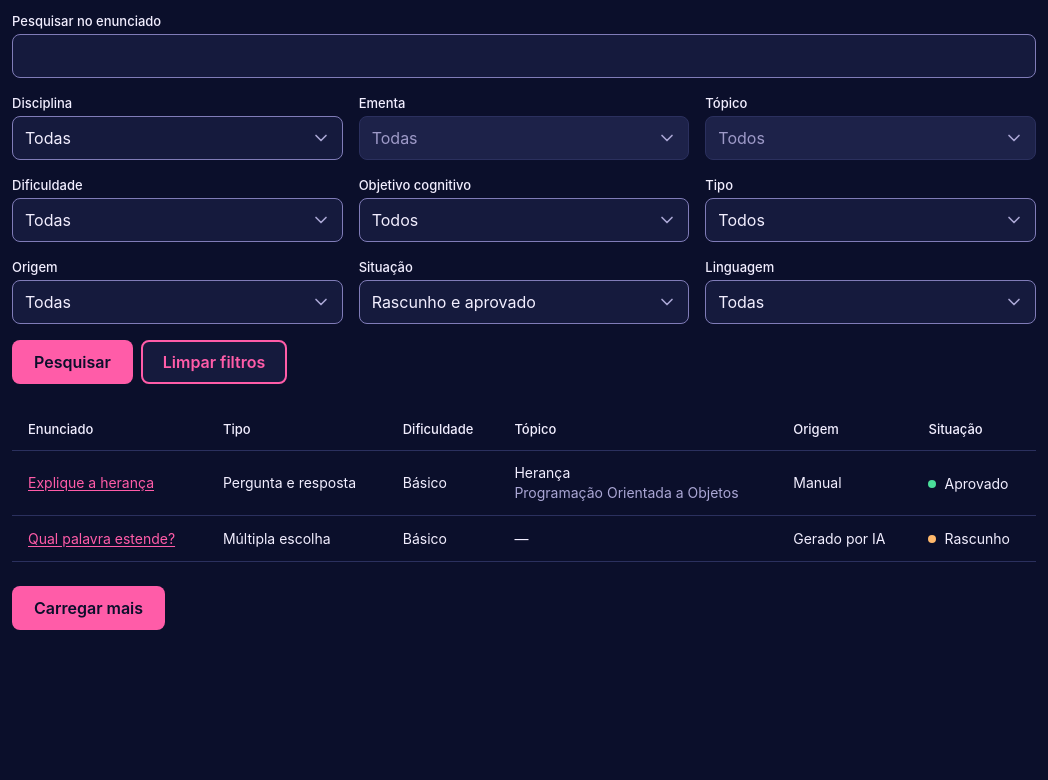
Test: 010/US5 ExerciseBankList — consultar o banco › 010/US5-1 "Carregar mais" pede a próxima página pelo cursor e acrescenta à lista
The width and height of the screenshot is (1048, 780).
Click the button "Carregar mais". click: (89, 608)
box: [12, 586, 165, 630]
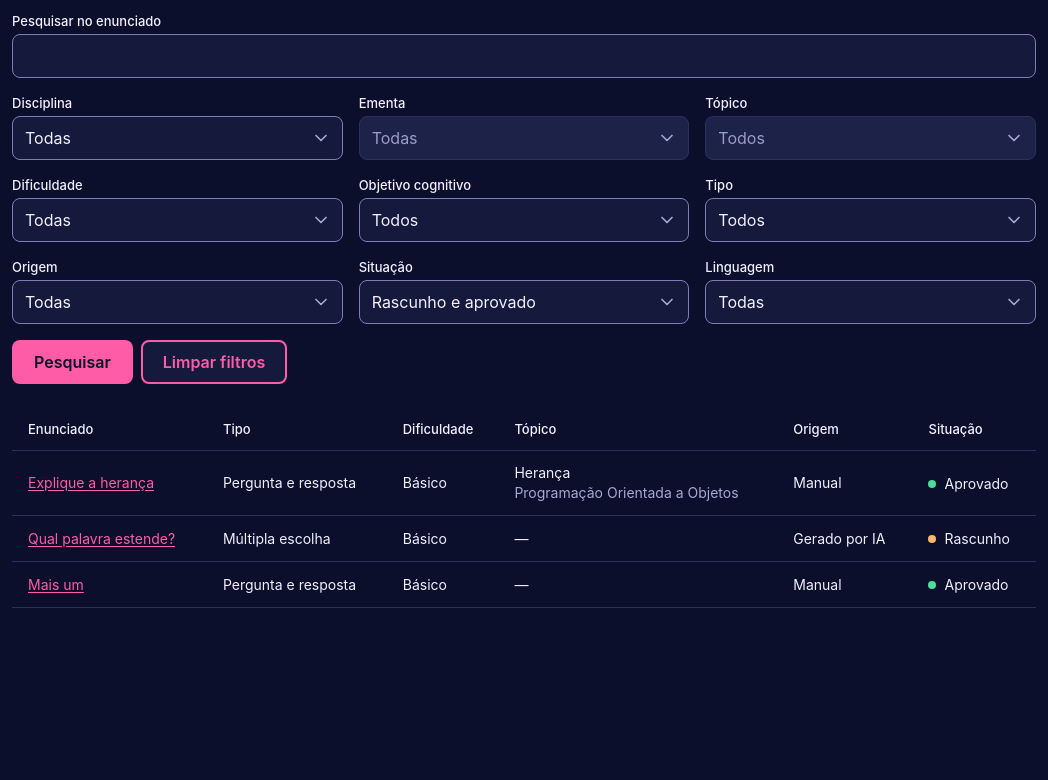
Expected: the link "Explique a herança" is shown, [28, 474, 154, 491]
Expected: the link "Mais um" is shown, [28, 576, 84, 592]
Expected: the button "Carregar mais" is gone
